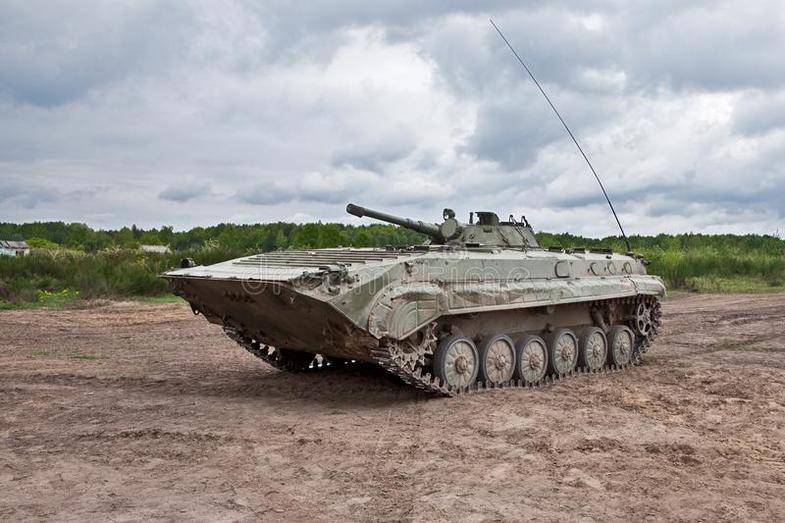bmp: (162, 205, 663, 392)
